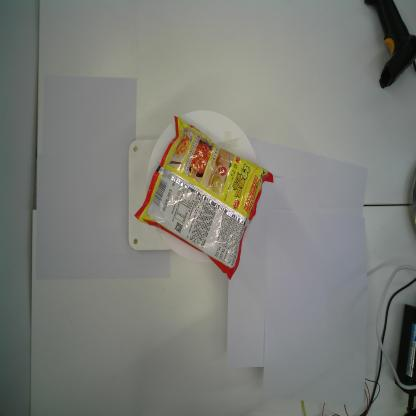Instant Noodles: (133, 115, 275, 281)
